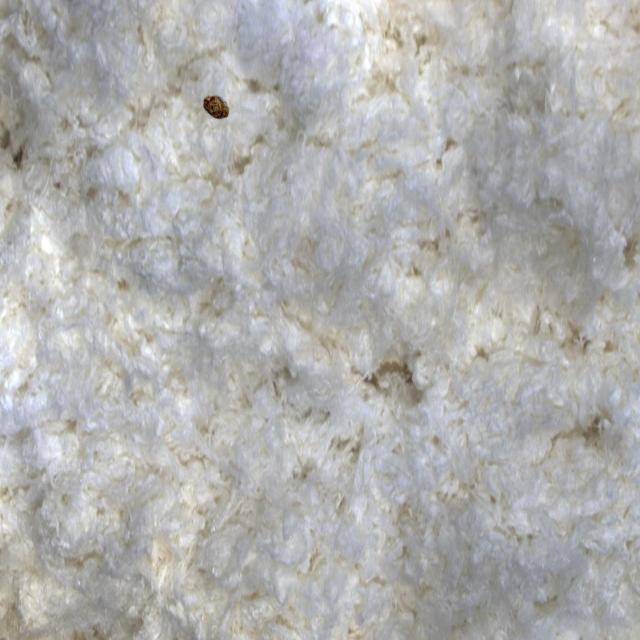dust: (195, 72, 245, 149)
